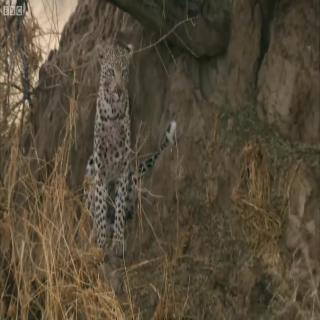Leopard: (66, 30, 178, 271)
